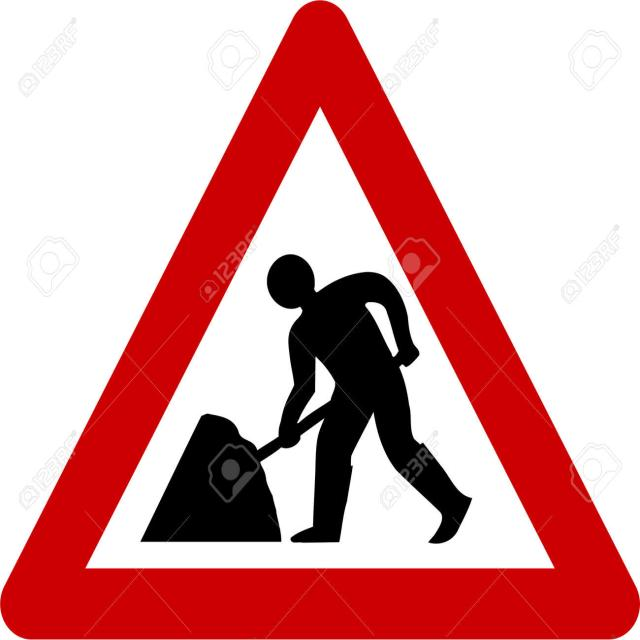WORKERS: (0, 0, 640, 639), (302, 355, 434, 481)
